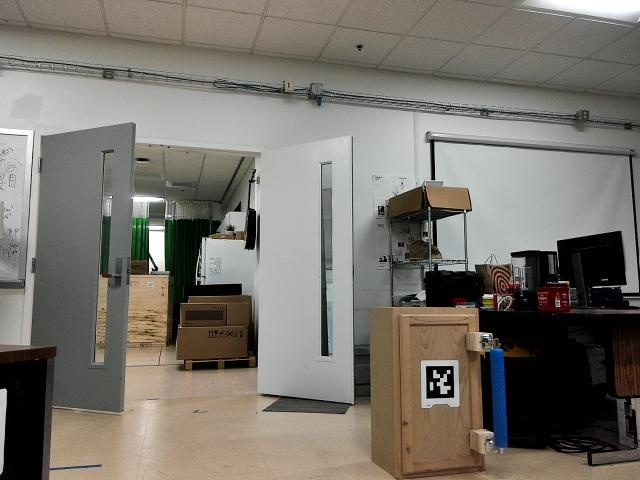noodle_handle: (487, 341, 511, 453)
